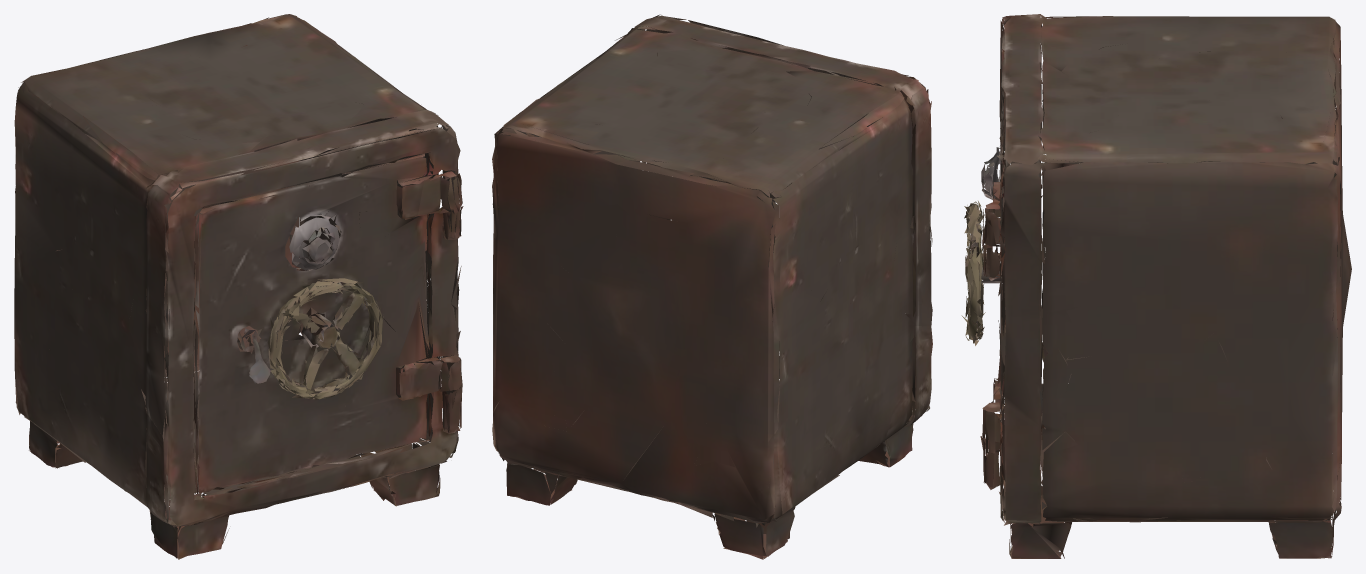
Rendered from safe_fireproof.glb.
The picture shows the model from 3 angles, left to right: view 1: azimuth 30°, elevation 25°; view 2: azimuth 150°, elevation 25°; view 3: azimuth 270°, elevation 25°; orthographic projection. The views are drawn at different scales.
Parts seen in each view (by area): view 1: safe_fireproof; view 2: safe_fireproof; view 3: safe_fireproof.
Part boxes in pixels (bbox=[...]): safe_fireproof: bbox=[14, 14, 463, 559]; safe_fireproof: bbox=[492, 14, 932, 559]; safe_fireproof: bbox=[961, 14, 1351, 558].
Bounding box in the file's own units: 0.8511 × 1.04 × 0.8949.
1 material, 1 textured.
